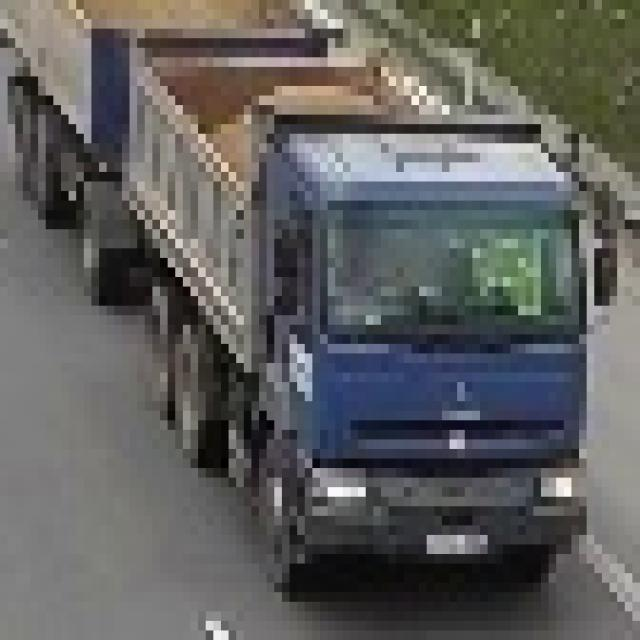truck: (1, 1, 611, 584)
